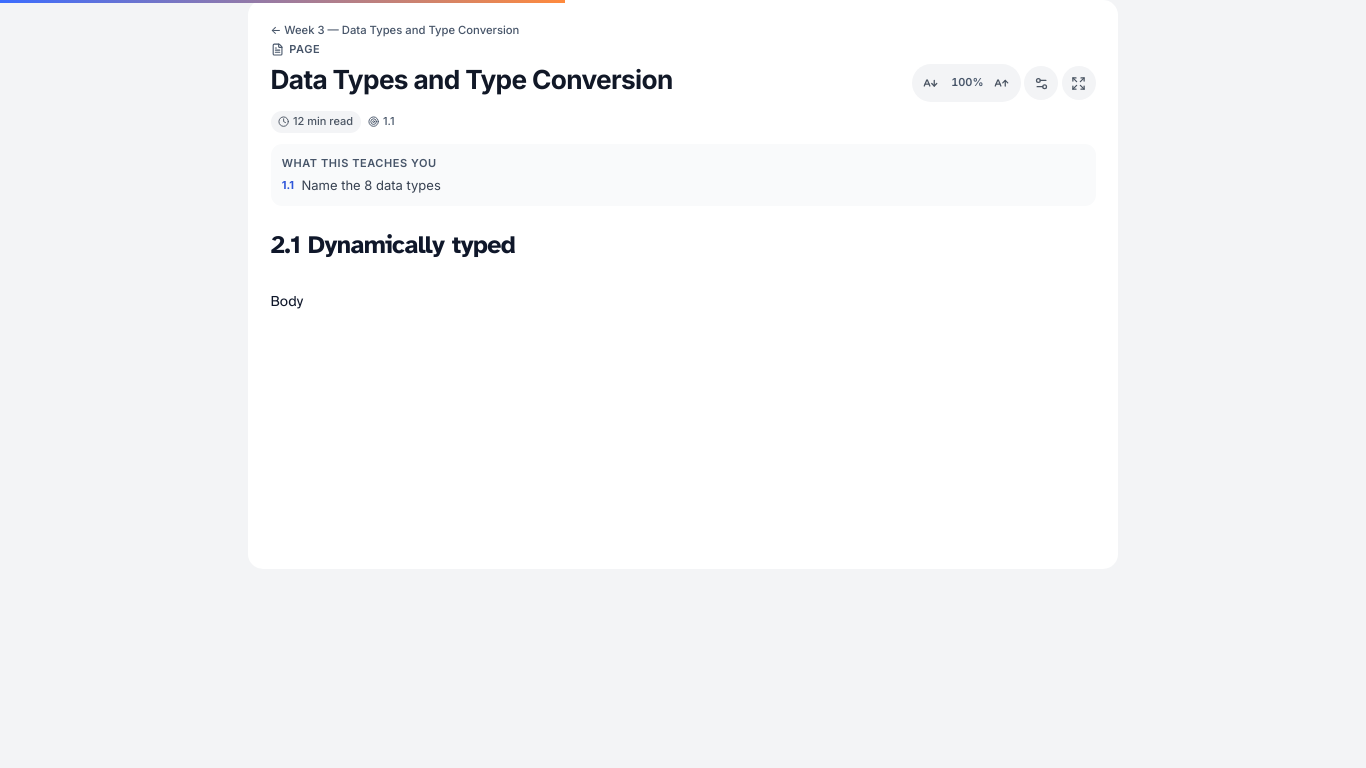
ItemView — the lesson reader › will not shrink the text past the floor
The image size is (1366, 768).
What coordinates should you click on to do the following:
click the button named "Smaller text"
I would click on:
 (930, 83)
Its box is [914,66,947,100].
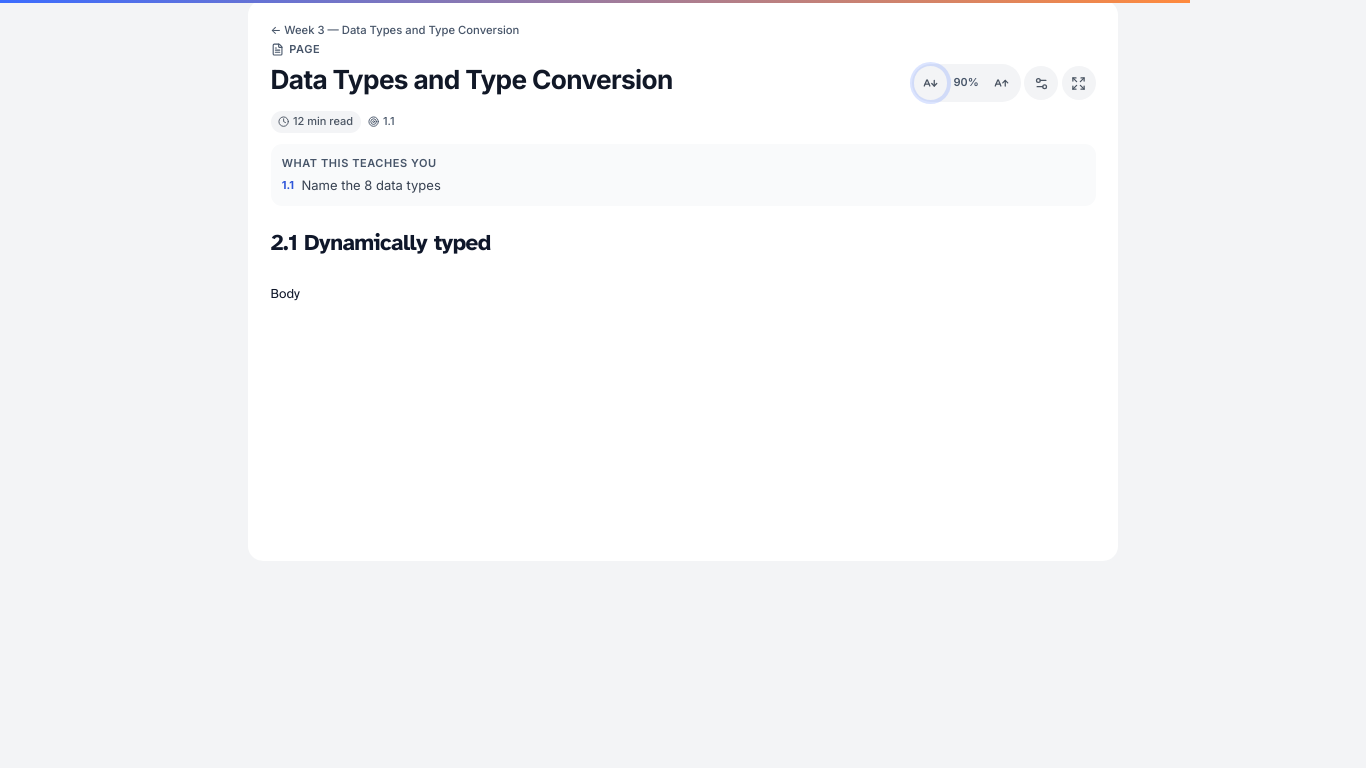
What coordinates should you click on to do the following:
click the button named "Smaller text"
I would click on:
 (930, 83)
Its box is [914,66,947,100].
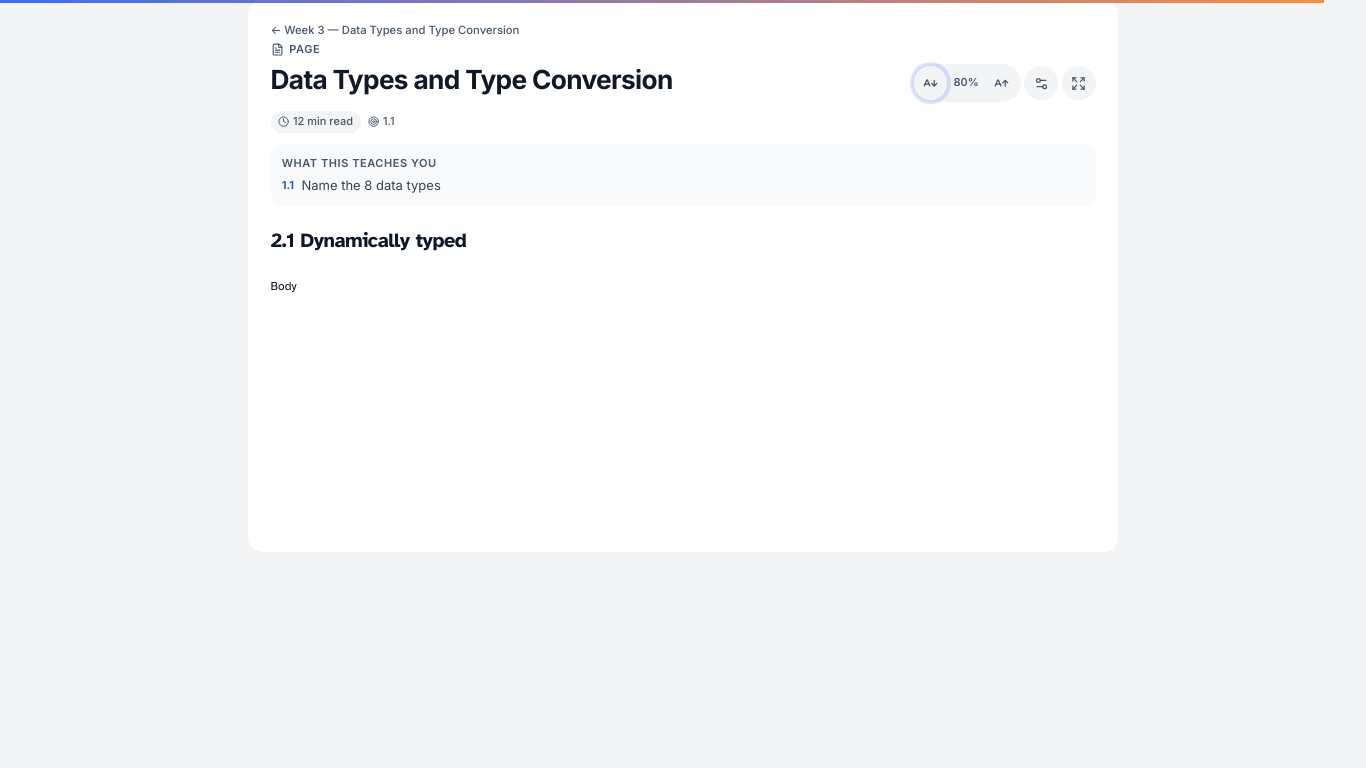
What coordinates should you click on to do the following:
click the button named "Smaller text"
I would click on:
 (930, 83)
Its box is [914,66,947,100].
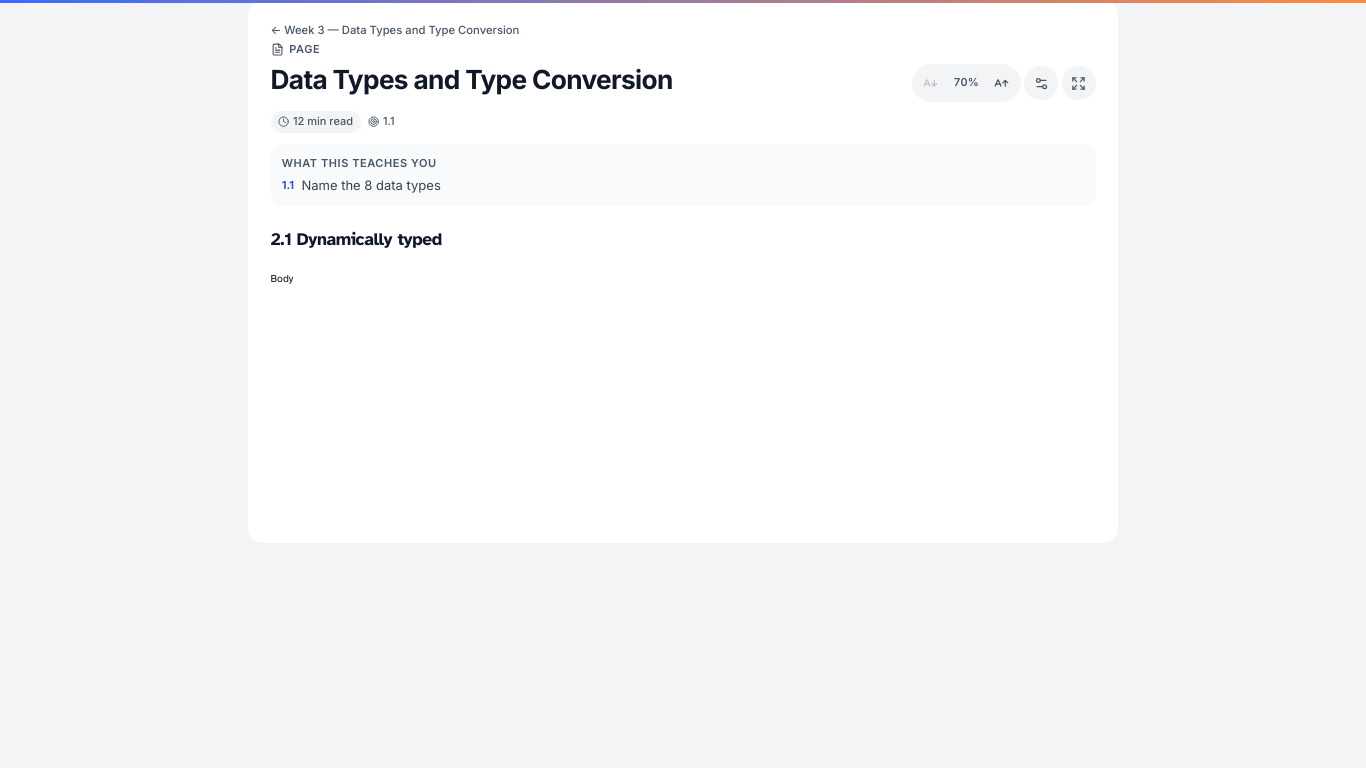
Result: the text "70%" is shown at [954,75,979,89]
Result: the button named "Smaller text" is disabled at [914,66,947,100]
